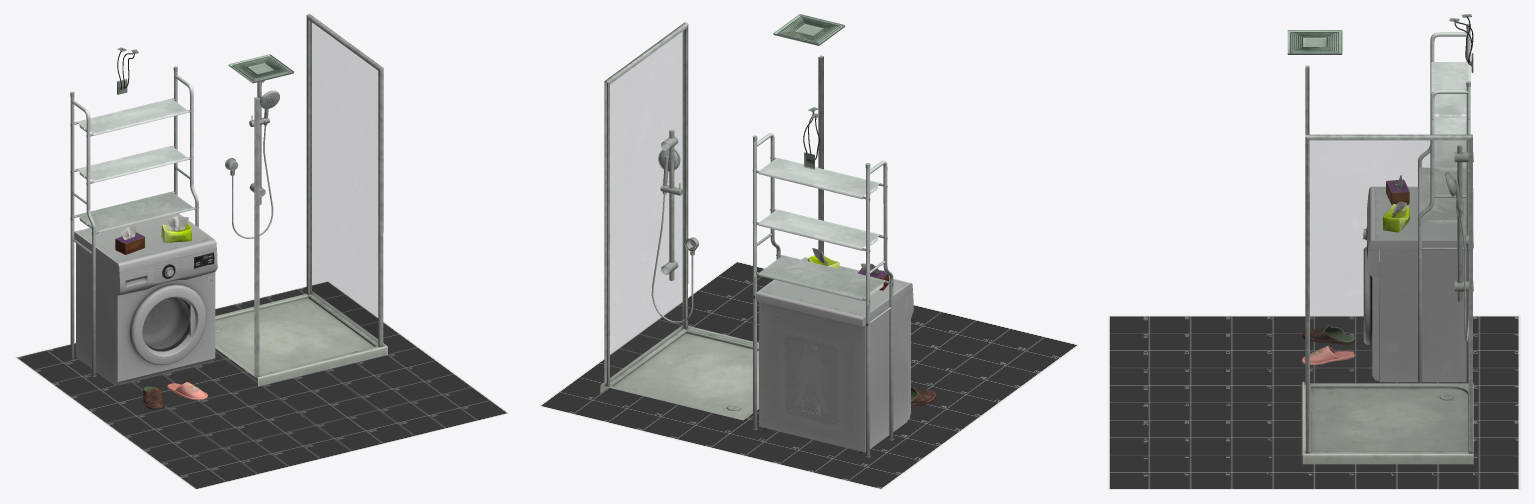
The model's file is bathroom_furniture_set_-_game_ready.glb.
3 views of the same model, side by side, from view 1: azimuth 30°, elevation 25°; view 2: azimuth 150°, elevation 25°; view 3: azimuth 270°, elevation 25° (orthographic). The views are drawn at different scales.
Visible parts, largest first — view 1: Plane.001; view 2: Plane.001; view 3: Plane.001.
Boxes of the visible parts, left/top/right/bottom form: Plane.001: left=15, top=14, right=509, bottom=489; Plane.001: left=539, top=14, right=1078, bottom=489; Plane.001: left=1108, top=14, right=1520, bottom=489.
Bounding box in the file's own units: 2.5 × 2.41 × 2.5.
Materials: 3 (3 with a texture image).
